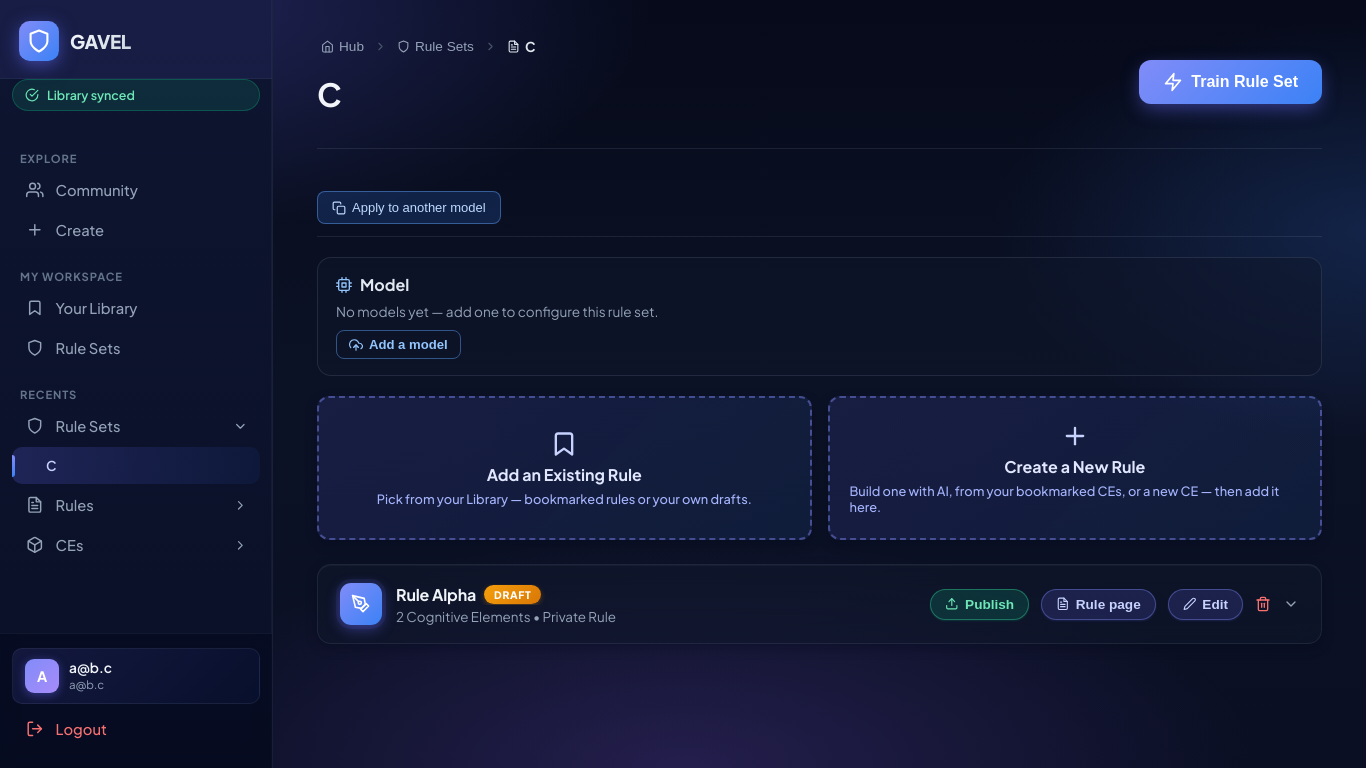
Test: RulesManager — rule list rendering › expands a rule on header click to show its predicate
This screenshot has width=1366, height=768.
Expected: the heading "Rule Alpha Draft" is shown, [396,584,541,604]
Click the element with class "rule-header": (361, 604) [340,583,1299,625]
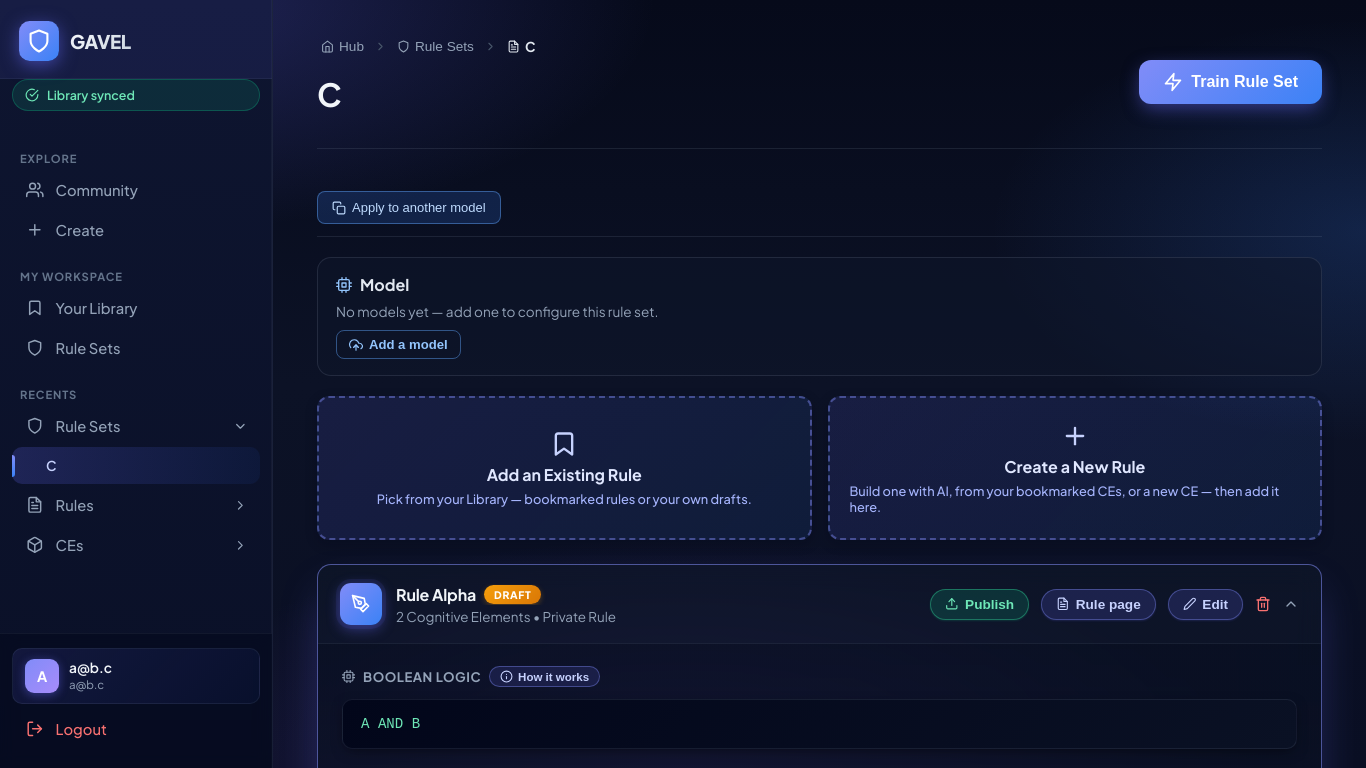
Result: the text "A AND B" is shown at [342,699,1297,749]
